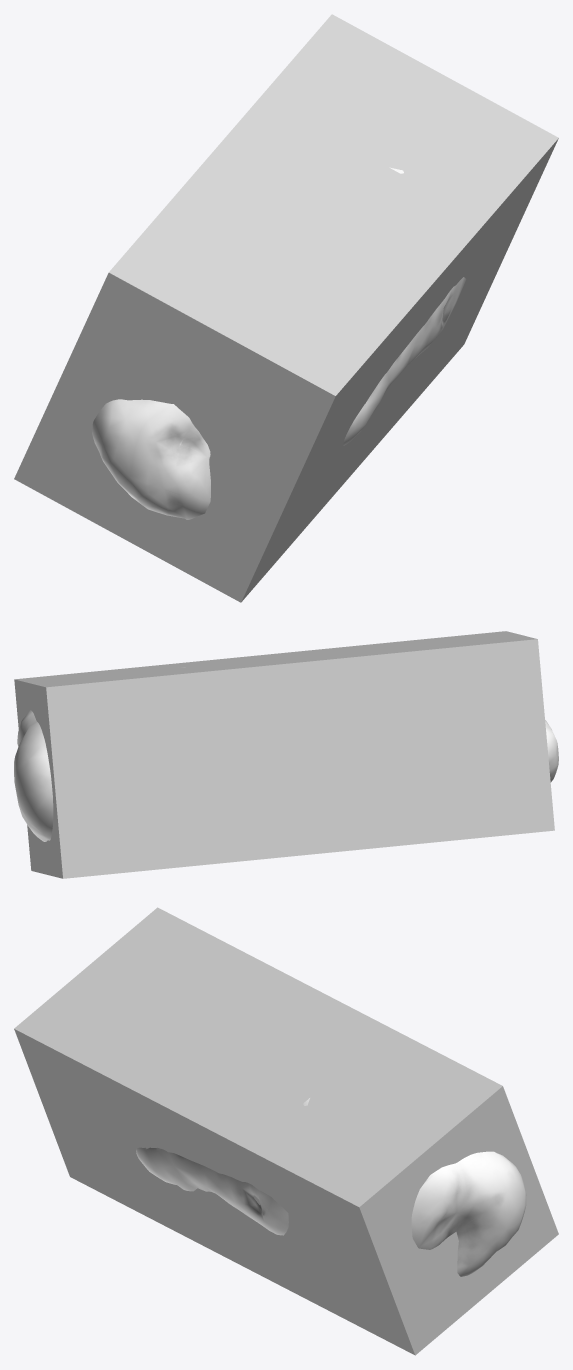
The model's file is Coral_15.glb.
3 views of the same model, one above another, from view 1: azimuth 30°, elevation 25°; view 2: azimuth 150°, elevation 25°; view 3: azimuth 270°, elevation 25° (orthographic). The views are drawn at different scales.
Visible parts, largest first — view 1: Cube.040, A03612_Koralle15.001; view 2: Cube.040, A03612_Koralle15.001; view 3: Cube.040, A03612_Koralle15.001.
Part boxes in pixels (<box>): Cube.040: <box>14,14,558,602</box>; A03612_Koralle15.001: <box>92,167,466,519</box>; Cube.040: <box>14,631,554,878</box>; A03612_Koralle15.001: <box>14,667,558,841</box>; Cube.040: <box>14,907,558,1355</box>; A03612_Koralle15.001: <box>136,1098,526,1276</box>.
Size of the model in its own units: 0.2829 by 0.1354 by 0.2678.
1 material, 1 textured.
